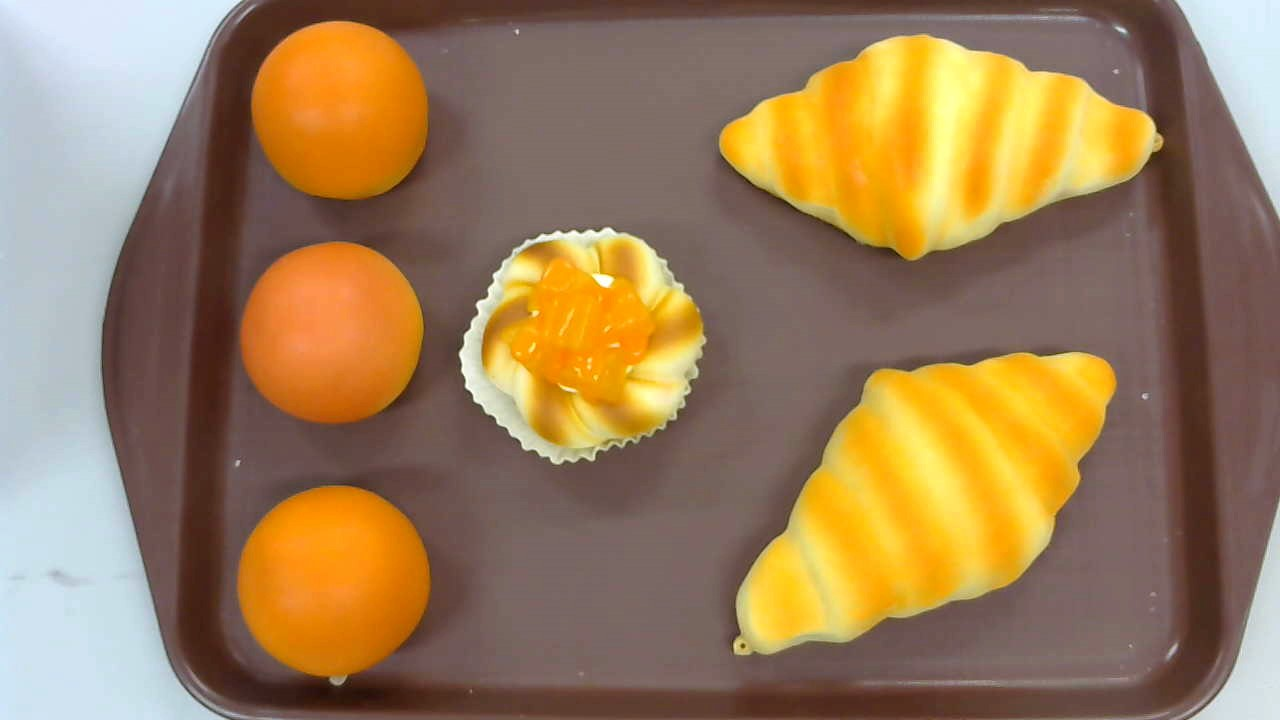bun: (235, 484, 429, 676), (239, 241, 423, 422), (250, 19, 428, 201)
croissant: (732, 350, 1117, 657), (718, 33, 1165, 261)
mango tart: (458, 226, 707, 466)
